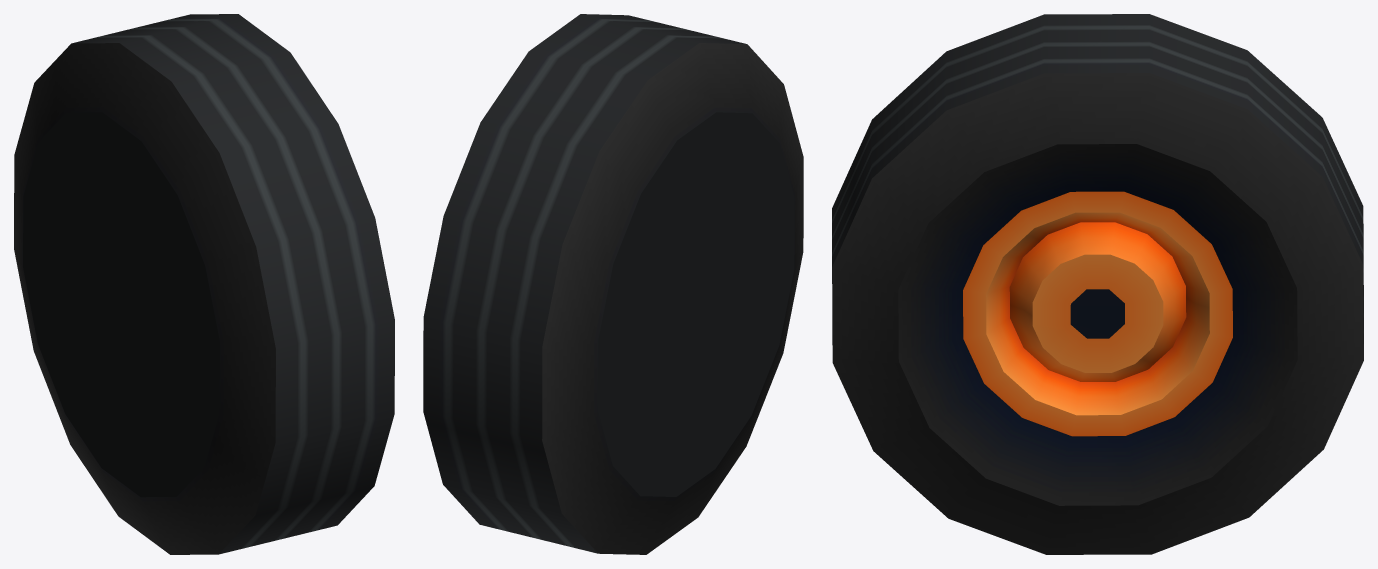
The model's file is Cars_Tire1.gltf.
3 views of the same model, side by side, from view 1: azimuth 30°, elevation 25°; view 2: azimuth 150°, elevation 25°; view 3: azimuth 270°, elevation 25° (orthographic).
Visible parts, largest first — view 1: _gltfNode_116; view 2: _gltfNode_116; view 3: _gltfNode_116.
Boxes of the visible parts, x1=… form: _gltfNode_116: x1=14, y1=14, x2=394, y2=554; _gltfNode_116: x1=423, y1=14, x2=803, y2=554; _gltfNode_116: x1=832, y1=14, x2=1363, y2=554.
Bounding box in the file's own units: 0.2797 × 0.7712 × 0.7712.
1 material, 1 textured.
